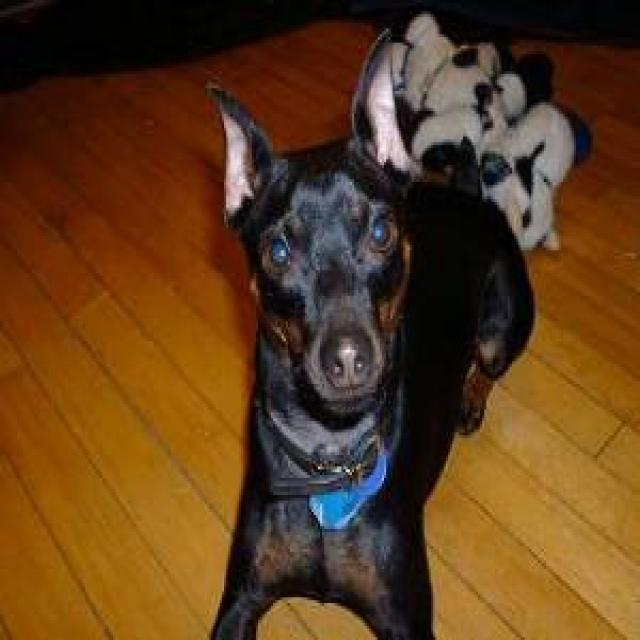dog-miniature_pinscher: (190, 17, 546, 634)
